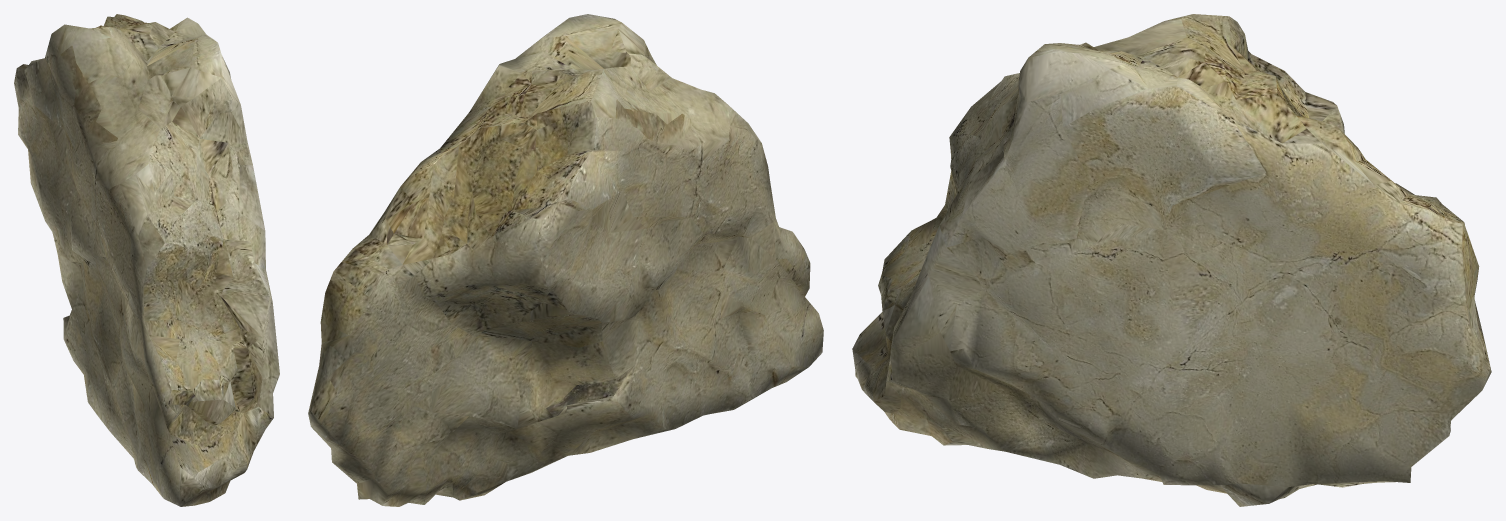
3 views of the same model, side by side, from view 1: azimuth 30°, elevation 25°; view 2: azimuth 150°, elevation 25°; view 3: azimuth 270°, elevation 25° (orthographic). The views are drawn at different scales.
Parts seen in each view (by area): view 1: sandstonecracked-lp; view 2: sandstonecracked-lp; view 3: sandstonecracked-lp.
Part boxes in pixels (x1,y1,x2,y2): sandstonecracked-lp: [14, 14, 279, 506]; sandstonecracked-lp: [308, 14, 823, 506]; sandstonecracked-lp: [852, 14, 1491, 506].
Bounding box in the file's own units: 0.2067 × 0.3822 × 0.5.
1 material, 1 textured.
